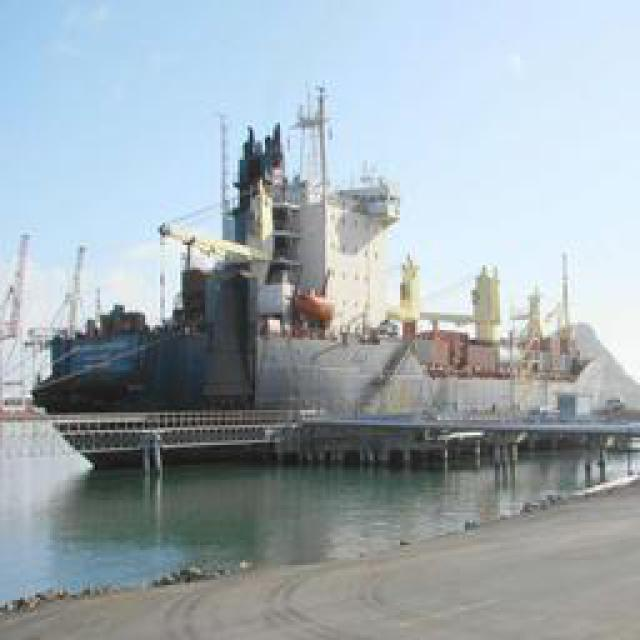Ship: (30, 76, 633, 475)
